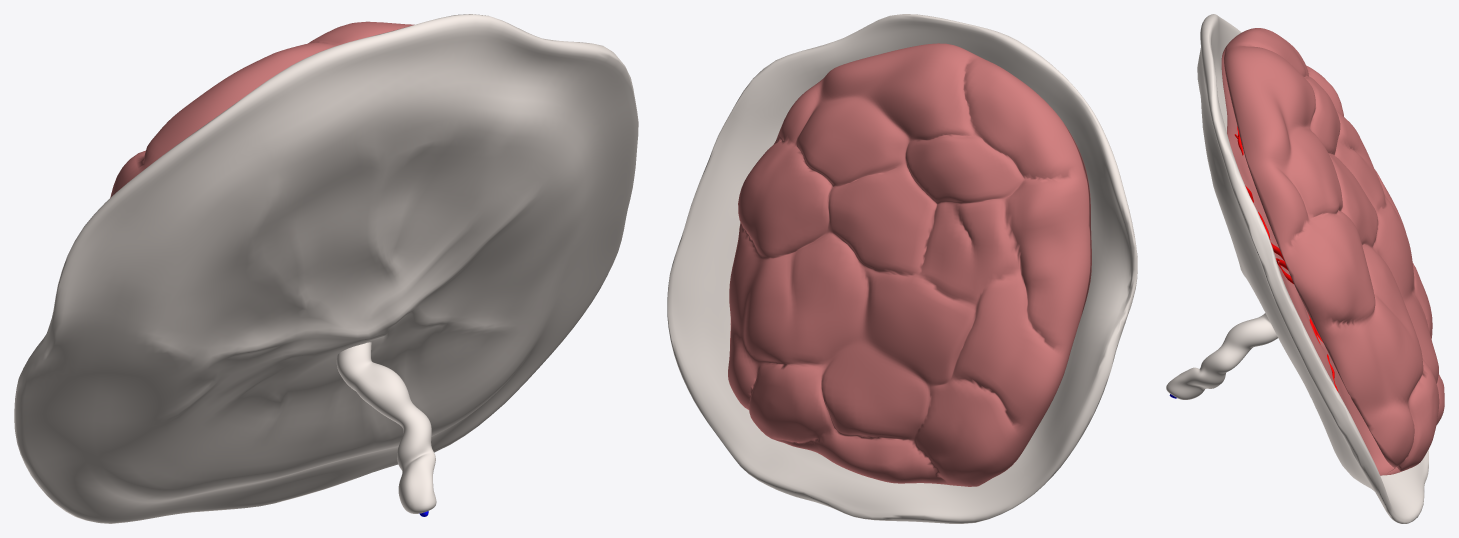
Rendered from vh_f_placenta-100.glb.
3 views of the same model, side by side, from view 1: azimuth 30°, elevation 25°; view 2: azimuth 150°, elevation 25°; view 3: azimuth 270°, elevation 25° (orthographic). The views are drawn at different scales.
Visible parts, largest first — view 1: VH_F_amnion, VH_F_basal_plate, VH_F_umbilical_cord; view 2: VH_F_basal_plate, VH_F_amnion; view 3: VH_F_basal_plate, VH_F_amnion, VH_F_chorionic_plate, VH_F_umbilical_cord, VH_F_placenta_vessels.
Boxes of the visible parts, x1,y1,x2,y2 form: VH_F_amnion: (14, 14, 638, 523); VH_F_basal_plate: (110, 21, 414, 197); VH_F_umbilical_cord: (336, 342, 436, 513); VH_F_basal_plate: (728, 43, 1090, 486); VH_F_amnion: (667, 14, 1137, 523); VH_F_basal_plate: (1224, 28, 1444, 471); VH_F_amnion: (1197, 14, 1428, 523); VH_F_chorionic_plate: (1221, 46, 1400, 475); VH_F_umbilical_cord: (1166, 313, 1277, 399); VH_F_placenta_vessels: (1234, 126, 1338, 391).
Size of the model in its own units: 0.2509 by 0.2305 by 0.1338.
